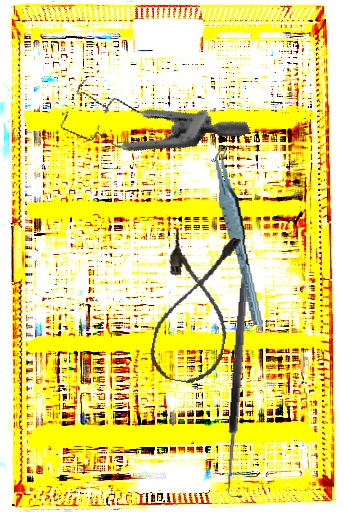Cannula: (146, 226, 245, 389)
Hook Surgical: (223, 278, 260, 498)
Speculum: (47, 25, 251, 204)
Tissue Forceps: (212, 143, 264, 328)
